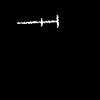double_crochet: (18, 16, 58, 26)
